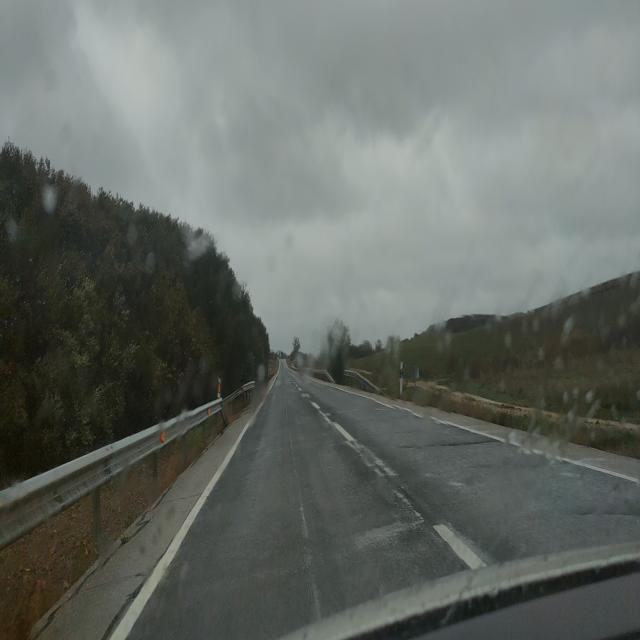Poth-hole: (296, 498, 324, 616)
